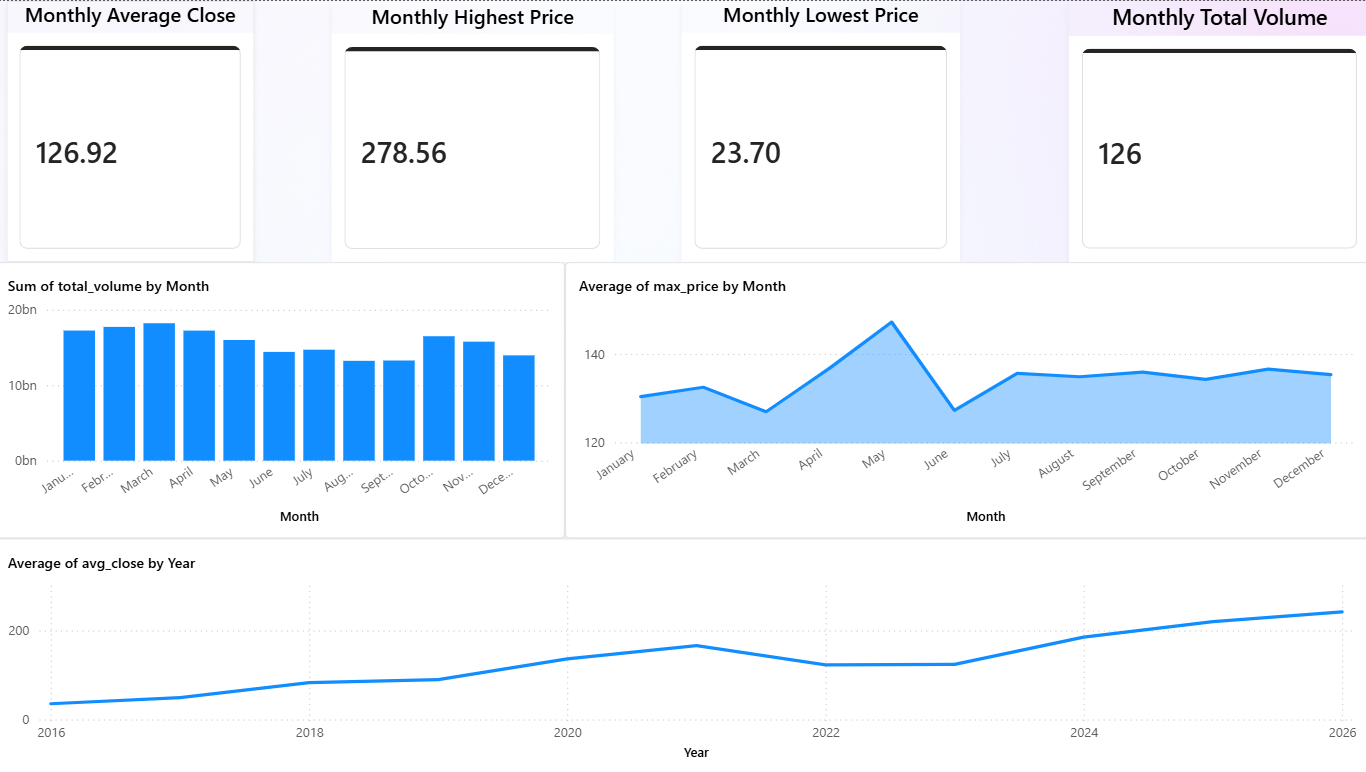

What the dashboard file says about the page in this screenshot:
{"tool":"powerbi","page":{"name":"Monthly Stock Analysis","canvas":[1280,720],"ordinal":2},"visuals":[{"type":"cardVisual","title":"Monthly Average Close","fields":{"Data":["Avg(gold_amzn_monthly_summary.avg_close)"]},"box":[11.6,0,230.2,243],"z":0},{"type":"cardVisual","title":"Monthly Total Volume","fields":{"Data":["CountNonNull(gold_amzn_monthly_summary.total_volume)"]},"box":[1000,1.2,280.2,241.9],"z":1000},{"type":"cardVisual","title":"Monthly Lowest Price","fields":{"Data":["Min(gold_amzn_monthly_summary.min_price)"]},"box":[639.5,0,259.3,243],"z":2000},{"type":"cardVisual","title":"Monthly Highest Price","fields":{"Data":["Max(gold_amzn_monthly_summary.max_price)"]},"box":[314,1.2,262.8,241.9],"z":3000},{"type":"clusteredColumnChart","fields":{"Category":["gold_amzn_monthly_summary.Date.Variation.Date Hierarchy.Month"],"Y":["Sum(gold_amzn_monthly_summary.total_volume)"]},"box":[0,243,531.4,257],"z":4000},{"type":"areaChart","fields":{"Category":["gold_amzn_monthly_summary.Date.Variation.Date Hierarchy.Month"],"Y":["Avg(gold_amzn_monthly_summary.max_price)"]},"box":[531.4,243,748.8,257],"z":4001},{"type":"lineChart","fields":{"Category":["gold_amzn_monthly_summary.Date.Variation.Date Hierarchy.Year","gold_amzn_monthly_summary.Date.Variation.Date Hierarchy.Quarter","gold_amzn_monthly_summary.Date.Variation.Date Hierarchy.Month","gold_amzn_monthly_summary.Date.Variation.Date Hierarchy.Day"],"Y":["Avg(gold_amzn_monthly_summary.avg_close)"]},"box":[0,500,1280.2,219.8],"z":4002}]}

Visuals, with their boxes in screenshot pixels (x1, y1, x2, y2), scaled from the page's 1280x720 canvas onto the 1366x772 screenshot:
"Monthly Average Close" cardVisual: bbox(12, 0, 258, 261)
"Monthly Total Volume" cardVisual: bbox(1067, 1, 1365, 261)
"Monthly Lowest Price" cardVisual: bbox(682, 0, 959, 261)
"Monthly Highest Price" cardVisual: bbox(335, 1, 616, 261)
clusteredColumnChart - gold_amzn_monthly_summary.Date.Variation.Date Hierarchy.Month x Sum(gold_amzn_monthly_summary.total_volume): bbox(0, 261, 567, 536)
areaChart - gold_amzn_monthly_summary.Date.Variation.Date Hierarchy.Month x Avg(gold_amzn_monthly_summary.max_price): bbox(567, 261, 1365, 536)
lineChart - gold_amzn_monthly_summary.Date.Variation.Date Hierarchy.Year x gold_amzn_monthly_summary.Date.Variation.Date Hierarchy.Quarter: bbox(0, 536, 1365, 771)
